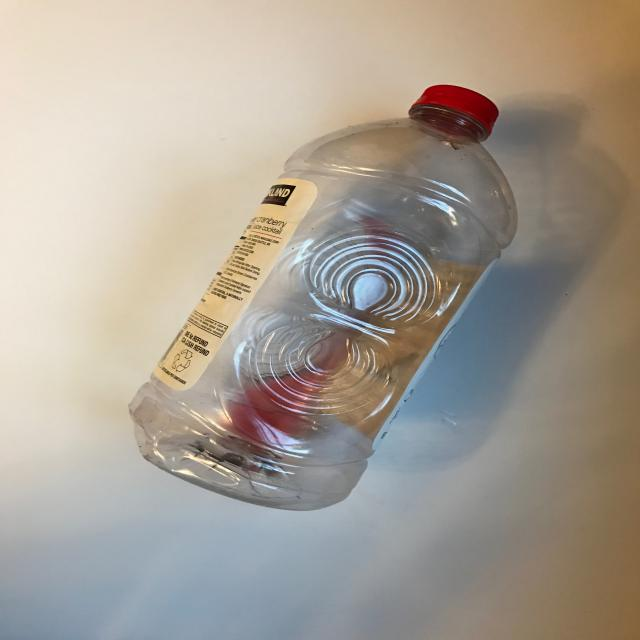Plastic: (106, 79, 552, 548)
